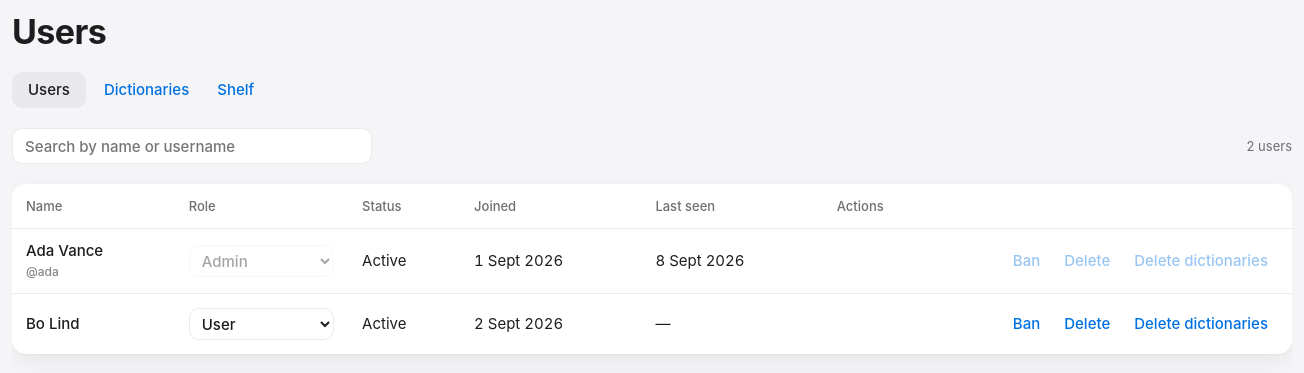
AdminScreen — shelf tab › lists the shelf words with their current shelf
Click the button "Shelf": [236, 90] box top-left (207, 72), bottom-right (264, 108)
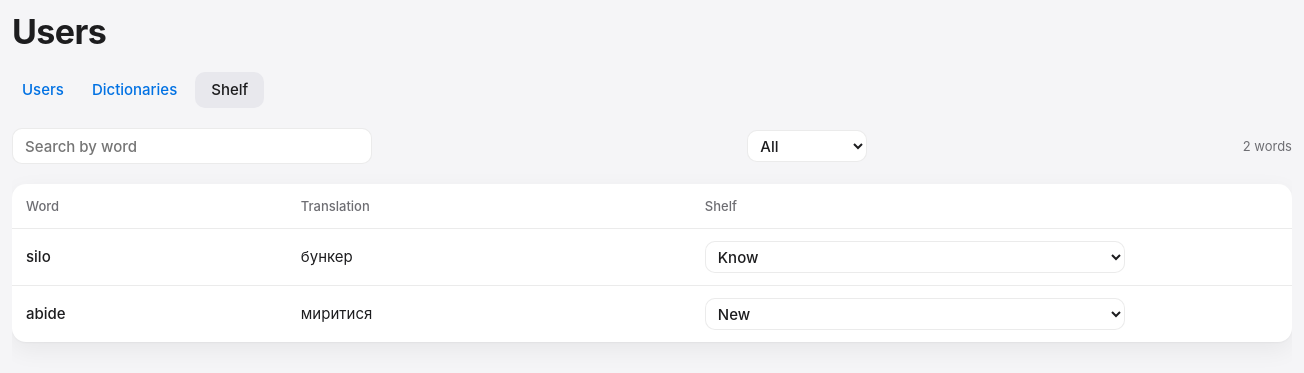
Expected: the column heading "silo" is shown, top-left (12, 228), bottom-right (287, 286)
Expected: the dropdown with class "shelf-select" shows "Know", top-left (705, 241), bottom-right (1125, 273)
Expected: the dropdown with class "shelf-select" shows "New", top-left (705, 298), bottom-right (1125, 330)
